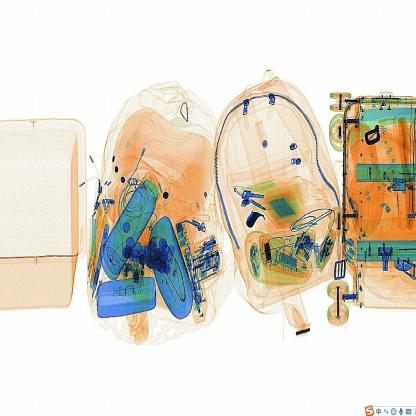wrench: (82, 202, 104, 288)
